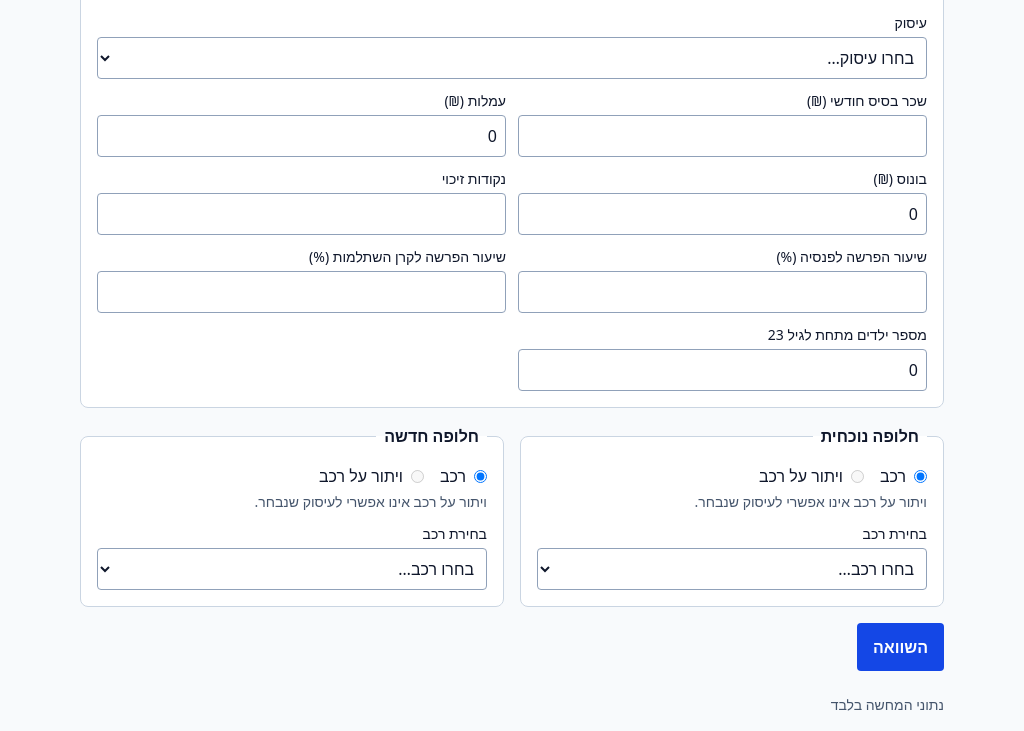
Test case: App › blocks submission with clear messages when required input is missing
The width and height of the screenshot is (1024, 731).
(page scrolled)
expect the dropdown labelled "עיסוק" is shown: met, box [97, 37, 927, 79]
Click the button "השוואה": (900, 647) [857, 623, 944, 671]
(page scrolled)
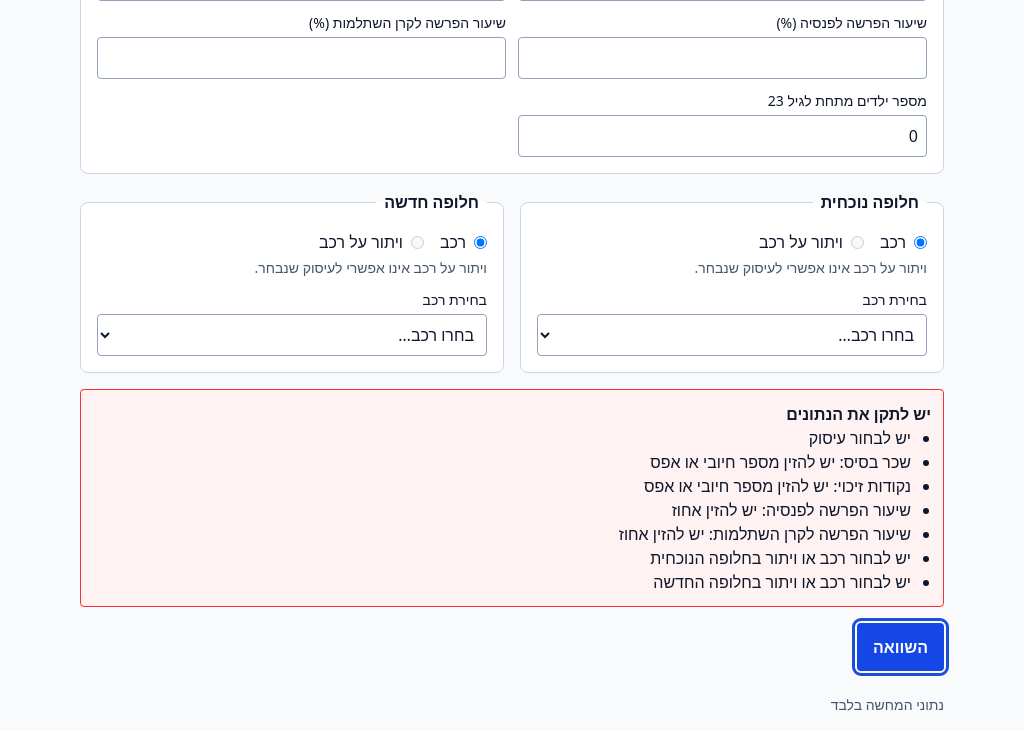
expect the message shows "יש לבחור עיסוק": met, box [809, 427, 911, 449]
